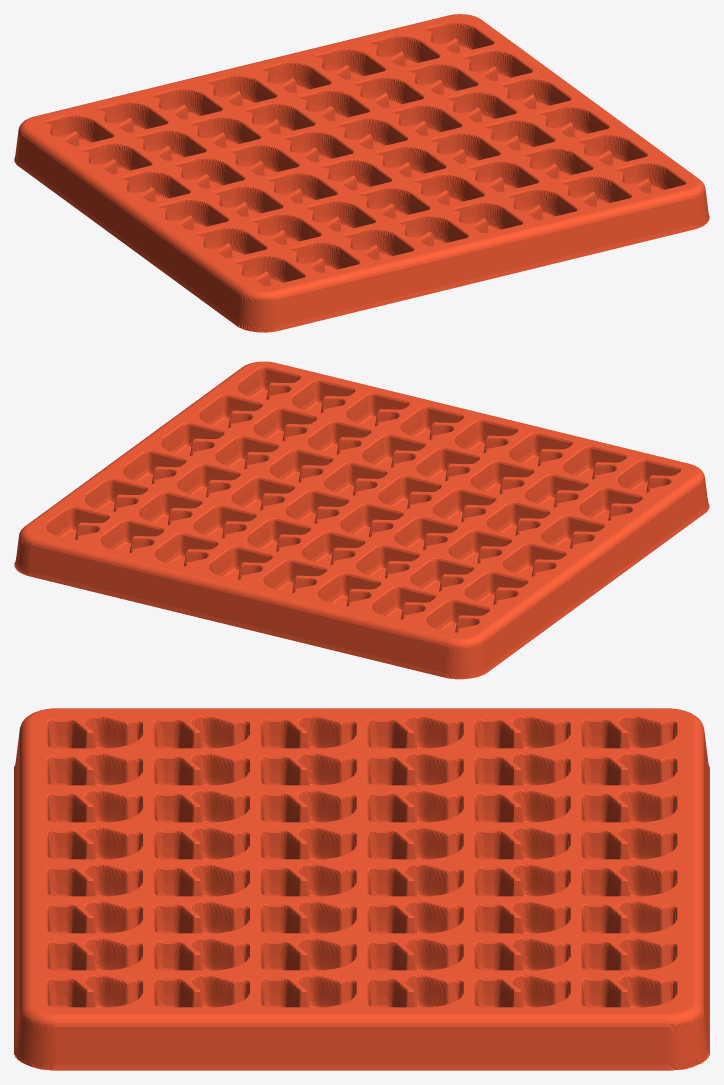
File: mold.glb
The picture shows the model from 3 angles, top to bottom: view 1: azimuth 30°, elevation 25°; view 2: azimuth 150°, elevation 25°; view 3: azimuth 270°, elevation 25°; orthographic projection. The views are drawn at different scales.
Parts seen in each view (by area): view 1: geometry_0; view 2: geometry_0; view 3: geometry_0.
Boxes of the visible parts, bbox=[...] form: geometry_0: bbox=[14, 14, 709, 332]; geometry_0: bbox=[14, 361, 709, 679]; geometry_0: bbox=[14, 708, 709, 1070].
Size of the model in its own units: 0.1566 by 0.0114 by 0.1443.
